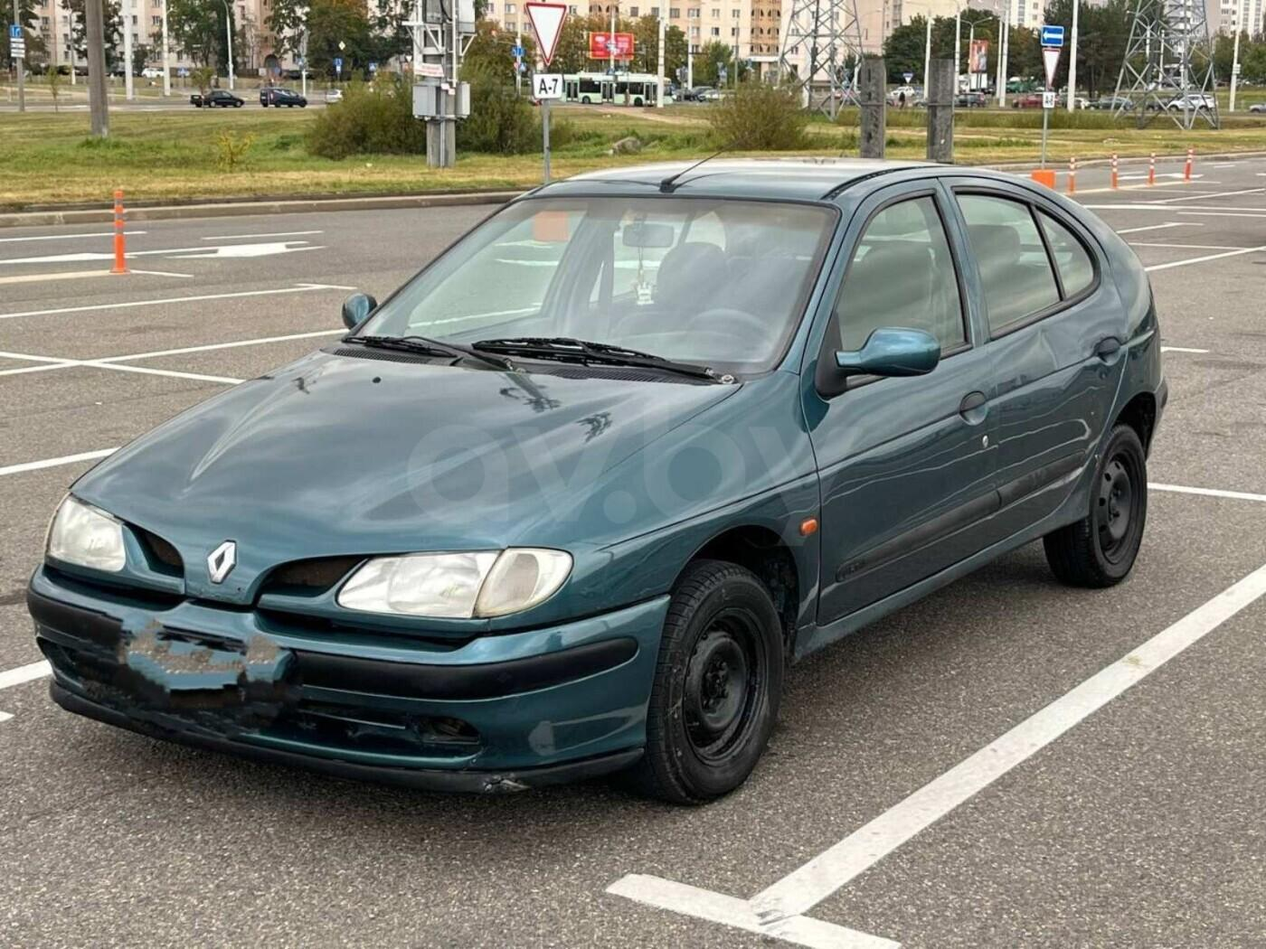Megane_1995-1999: (22, 137, 1174, 830)
